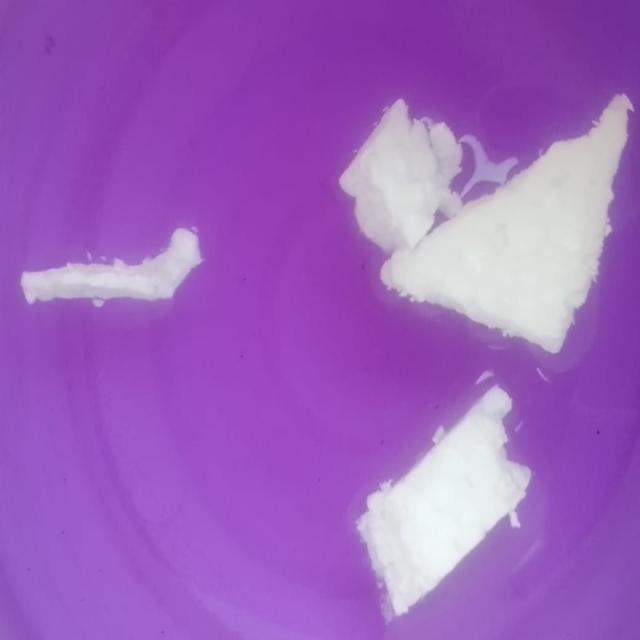thermocoal: (332, 67, 640, 372), (352, 361, 536, 623), (334, 82, 487, 268), (11, 231, 230, 321)
